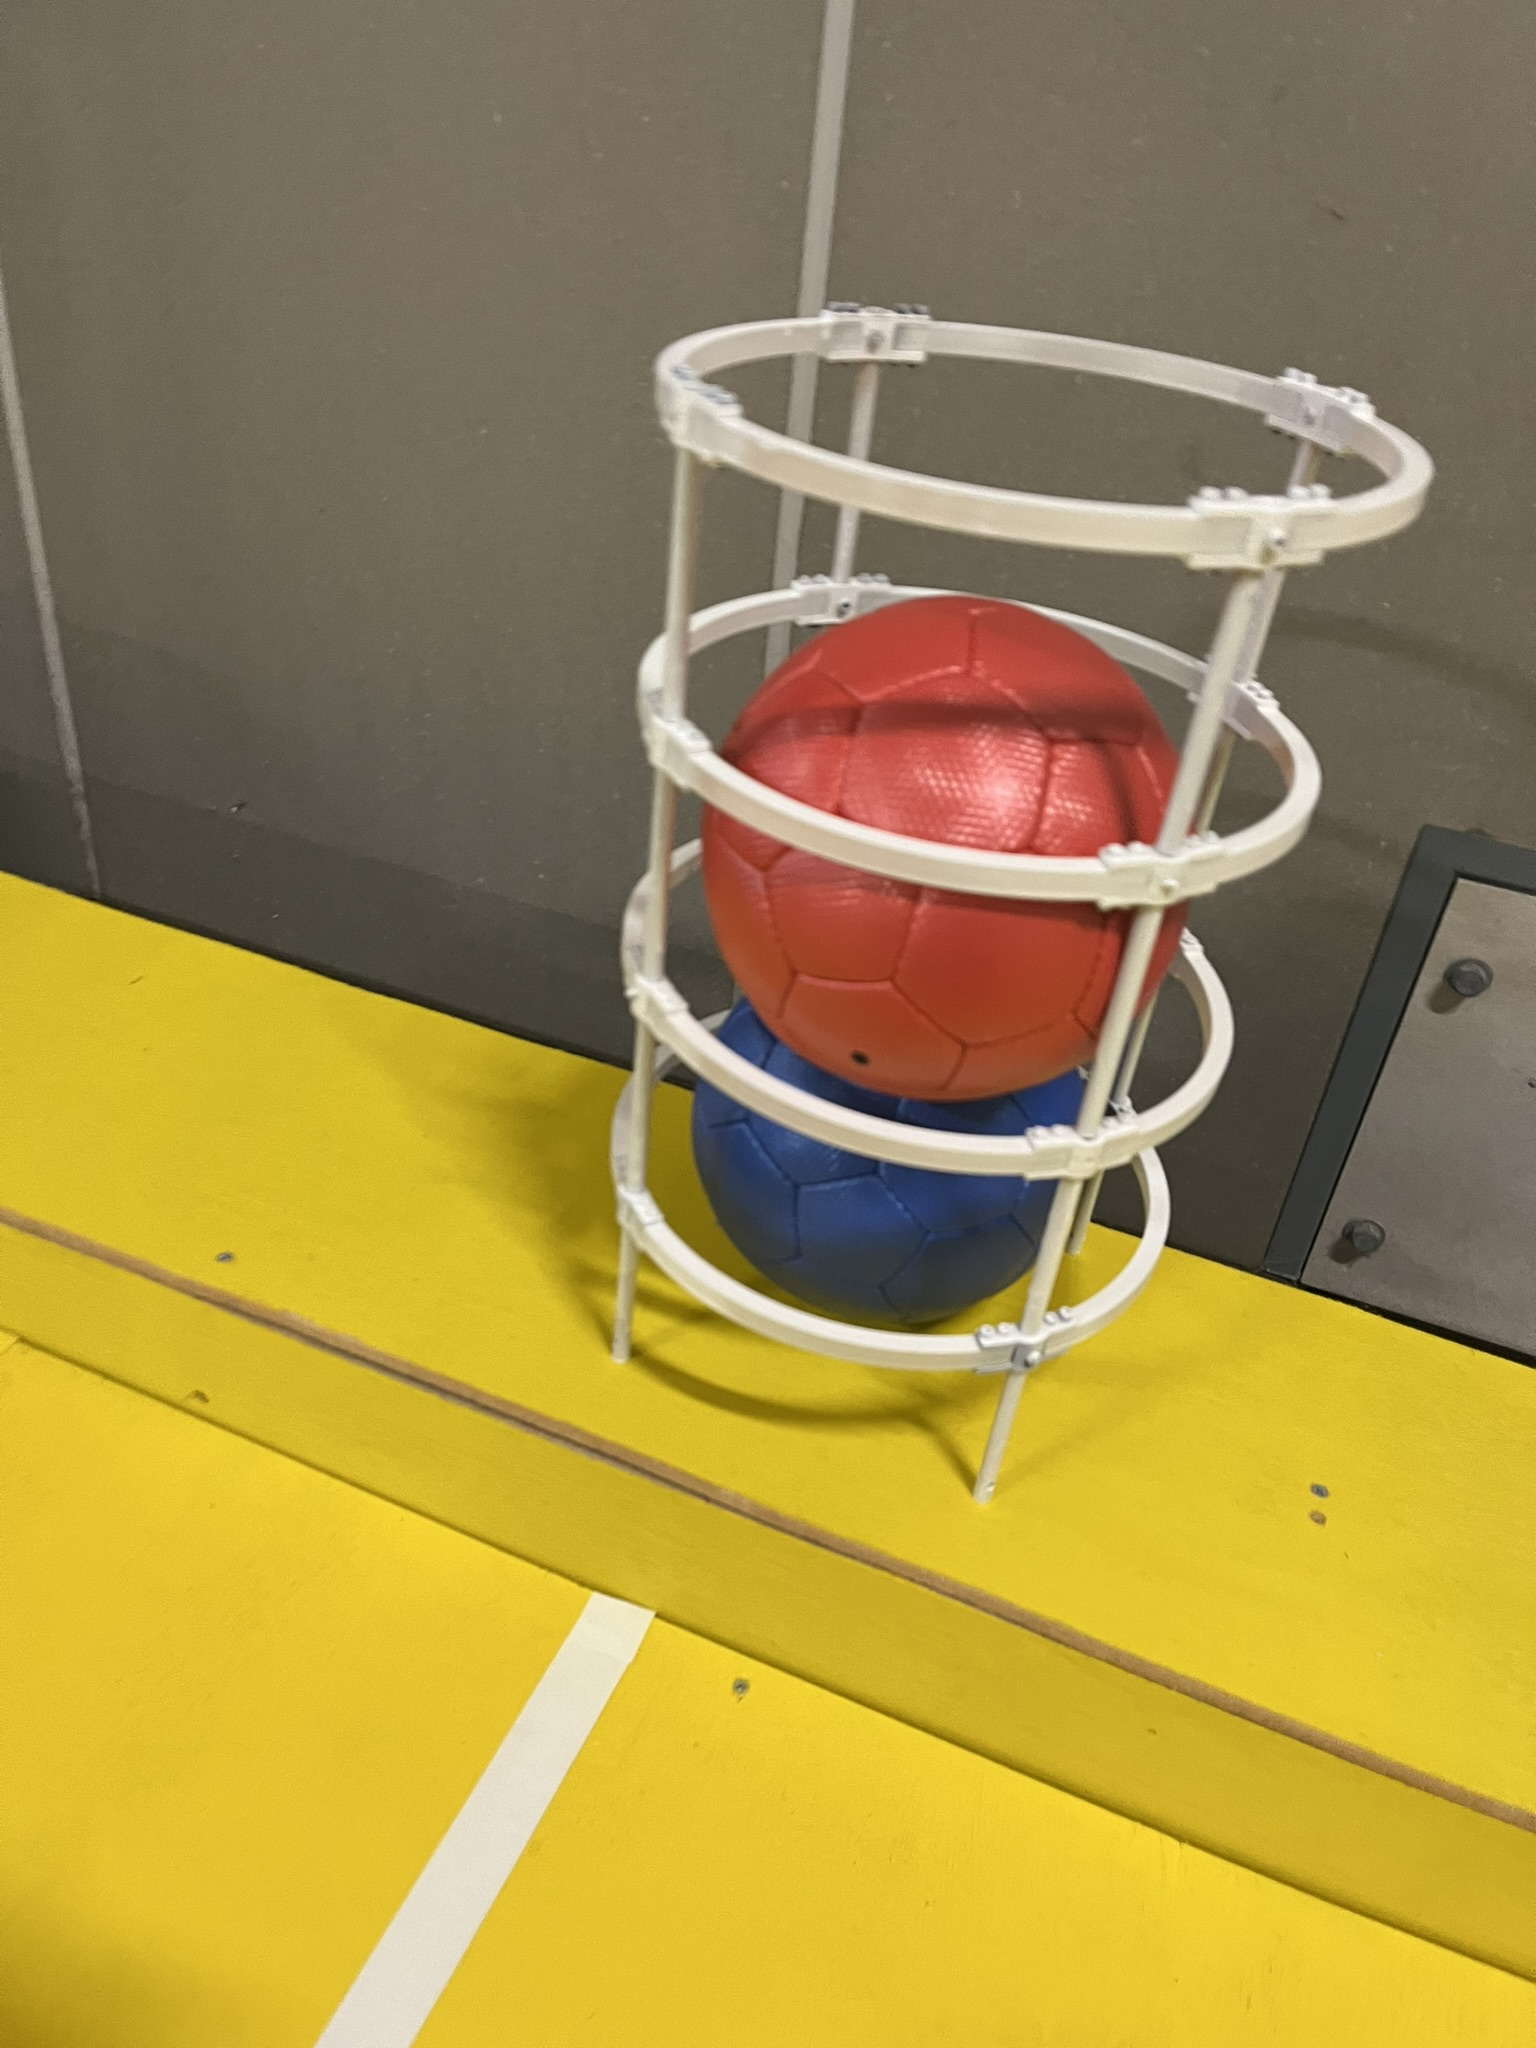blue: (663, 898, 1121, 1350)
